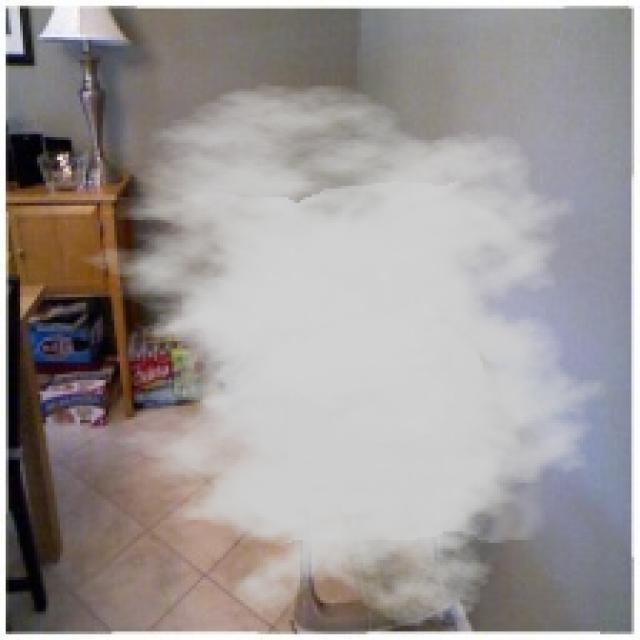Smoke: (57, 82, 617, 628)
